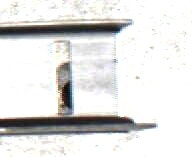40ngpress: (7, 18, 143, 132)
